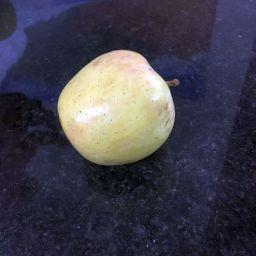apple: (45, 31, 197, 183)
